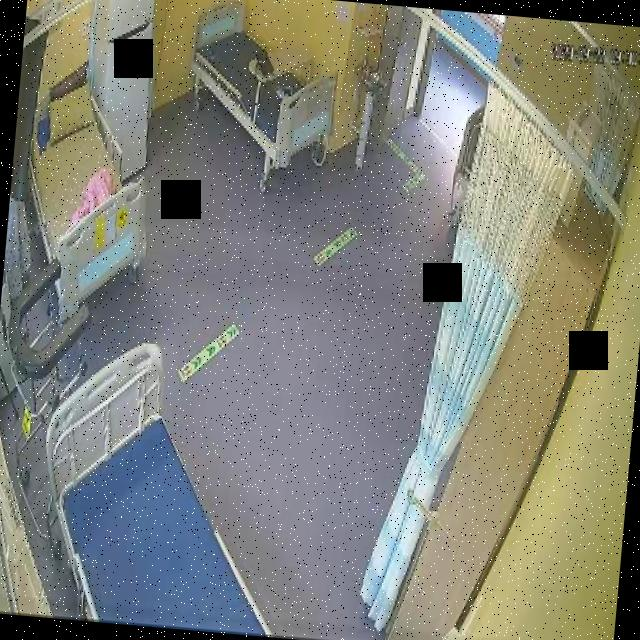bed: (27, 332, 291, 636), (14, 75, 159, 310), (184, 0, 344, 171)
walker: (0, 248, 98, 483)
